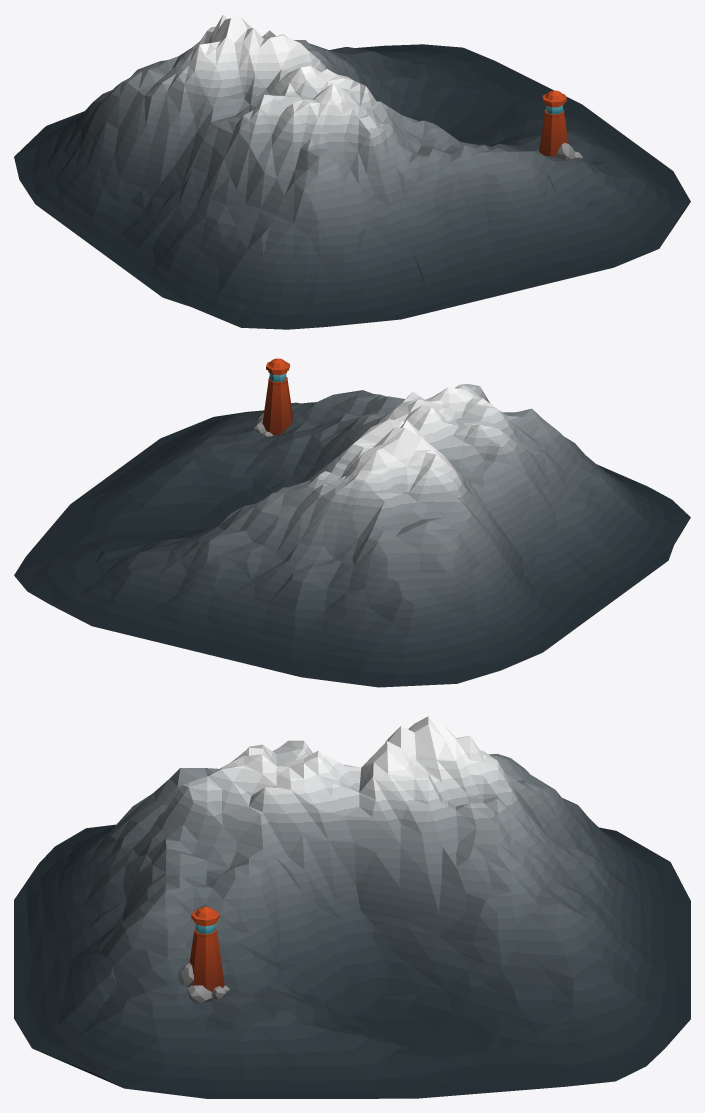
File: Island_2.fbx
3 views of the same model, one above another, from view 1: azimuth 30°, elevation 25°; view 2: azimuth 150°, elevation 25°; view 3: azimuth 270°, elevation 25° (orthographic). The views are drawn at different scales.
Visible parts, largest first — view 1: Island_2; view 2: Island_2; view 3: Island_2.
Boxes of the visible parts, left/top/right/bottom form: Island_2: left=14, top=14, right=690, bottom=329; Island_2: left=14, top=358, right=690, bottom=687; Island_2: left=14, top=716, right=690, bottom=1098.
Size of the model in its own units: 7538 by 2335 by 7538.
